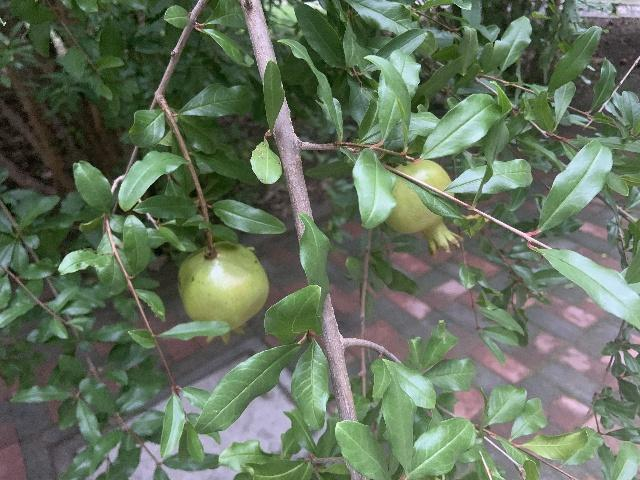mid-growth: (178, 240, 269, 345), (383, 158, 462, 256)
